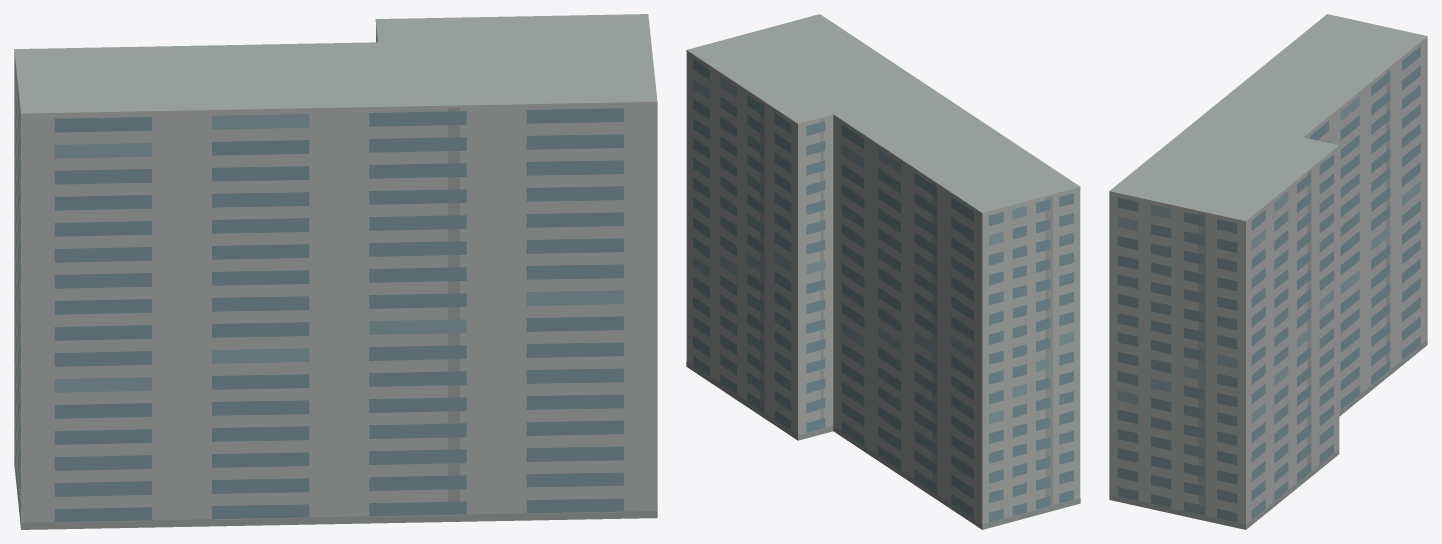
Rendered from residential-7ed2a2c4-a7ce-4cc4-9f9e-89baeace95e5.glb.
3 views of the same model, side by side, from view 1: azimuth 30°, elevation 25°; view 2: azimuth 150°, elevation 25°; view 3: azimuth 270°, elevation 25° (orthographic). The views are drawn at different scales.
Parts seen in each view (by area): view 1: residential-7ed2a2c4-a7ce-4cc4-9f9e-89baeace95e5.tmp; view 2: residential-7ed2a2c4-a7ce-4cc4-9f9e-89baeace95e5.tmp; view 3: residential-7ed2a2c4-a7ce-4cc4-9f9e-89baeace95e5.tmp.
Part boxes in pixels (left/top/right/bottom): residential-7ed2a2c4-a7ce-4cc4-9f9e-89baeace95e5.tmp: left=14, top=14, right=657, bottom=529; residential-7ed2a2c4-a7ce-4cc4-9f9e-89baeace95e5.tmp: left=686, top=14, right=1080, bottom=529; residential-7ed2a2c4-a7ce-4cc4-9f9e-89baeace95e5.tmp: left=1109, top=14, right=1427, bottom=529.
Bounding box in the file's own units: 66.21 × 46 × 43.01.
